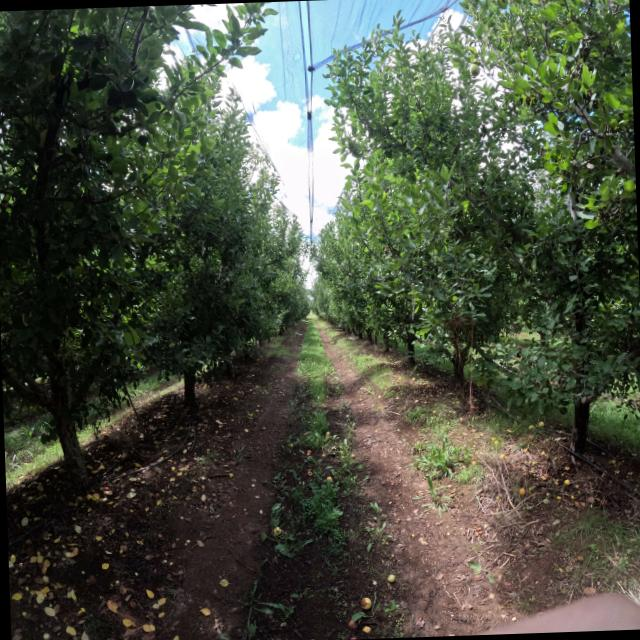-FireBlight-: (449, 315, 467, 345)
